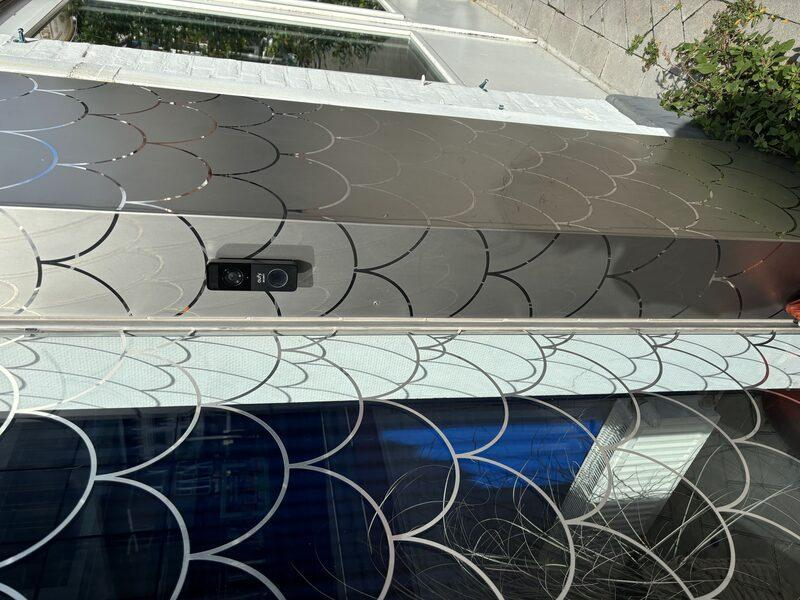doorbell: (306, 202, 341, 298)
